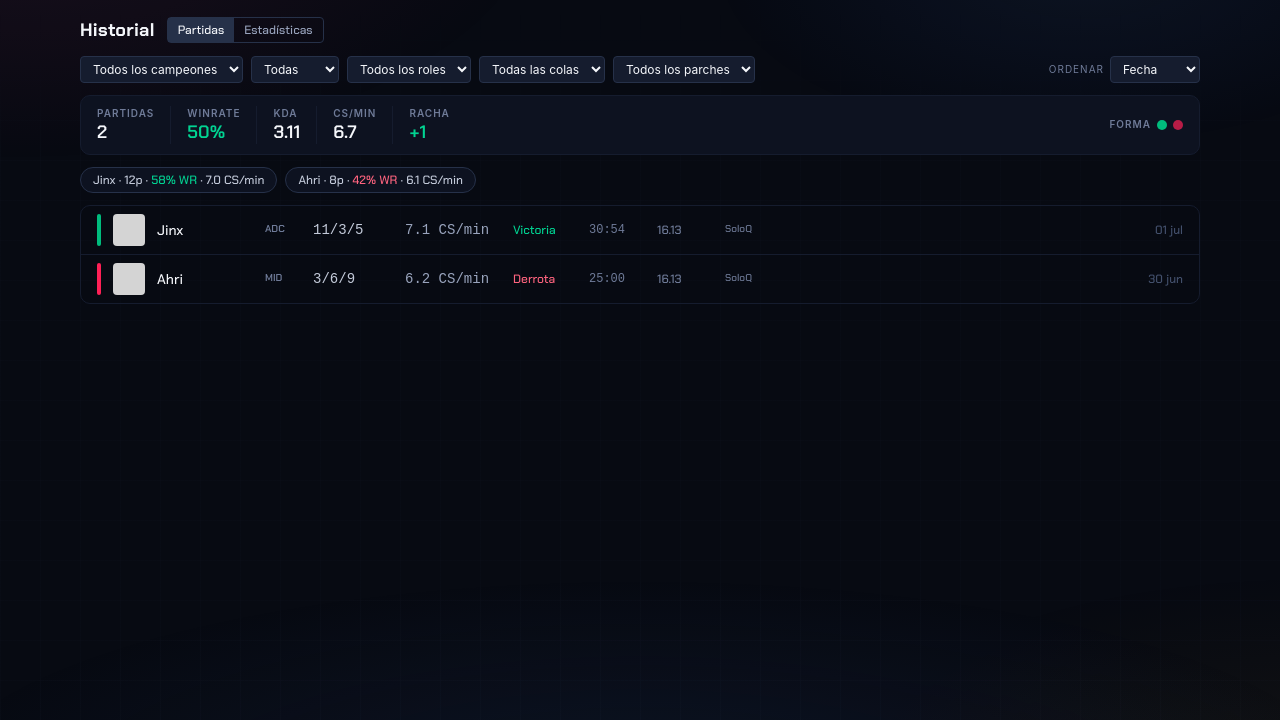
Test: HistoryView › opens the detail drawer with build and gold sparkline
Click the text "11/3/5" at [338, 230], box [313, 222, 363, 238]
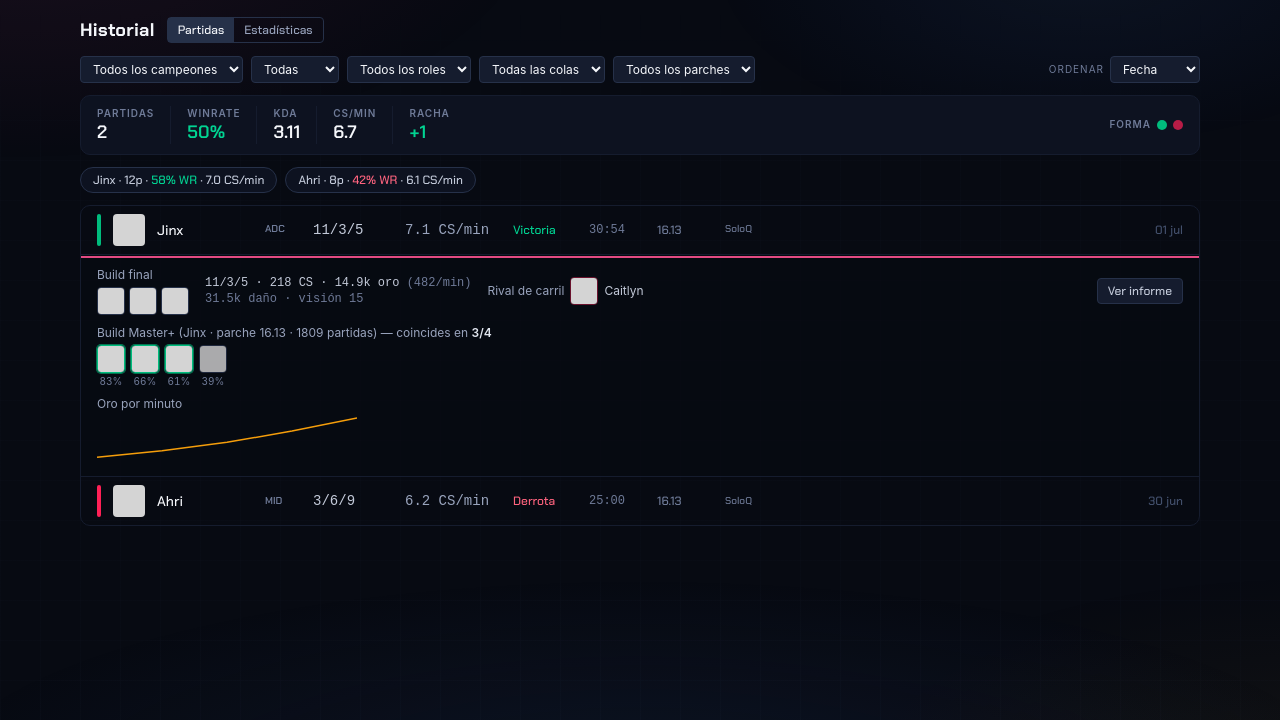
Expected: the text "Build final" is shown, [97, 266, 153, 282]
Expected: the picture named "Curva de oro por minuto" is shown, [97, 416, 357, 464]
